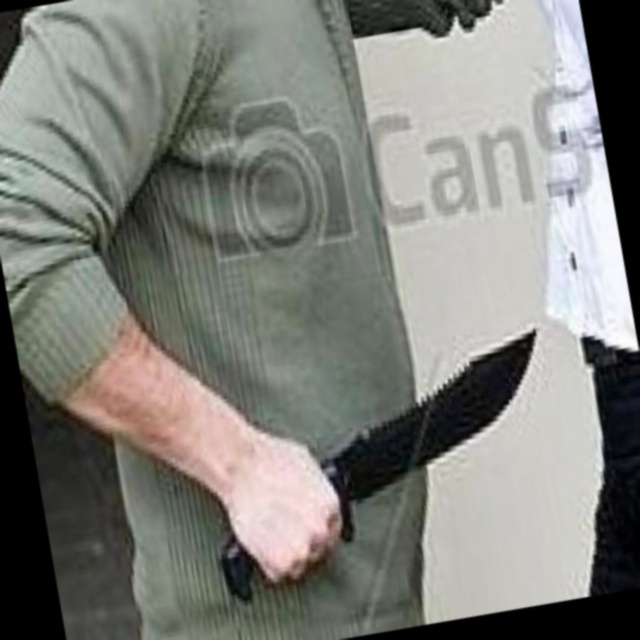Sharp-Object: (188, 327, 574, 609)
